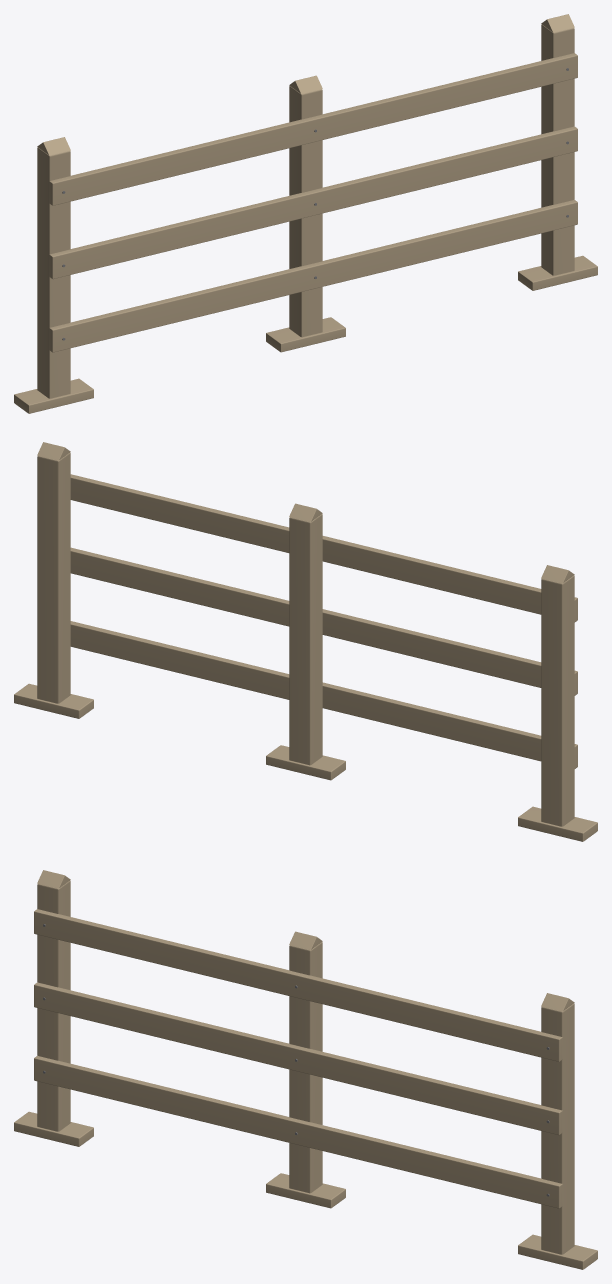
Rendered from boundary.yard.fence_wood.glb.
3 views of the same model, one above another, from view 1: azimuth 30°, elevation 25°; view 2: azimuth 150°, elevation 25°; view 3: azimuth 330°, elevation 25° (orthographic).
Parts seen in each view (by area): view 1: main__timber_ba8; view 2: main__timber_ba8; view 3: main__timber_ba8.
Part boxes in pixels (x1,y1,x2,y2): main__timber_ba8: (14,14,597,413); main__timber_ba8: (14,442,597,841); main__timber_ba8: (14,870,597,1269).
Size of the model in its own units: 2.6 by 1.14 by 0.139.
